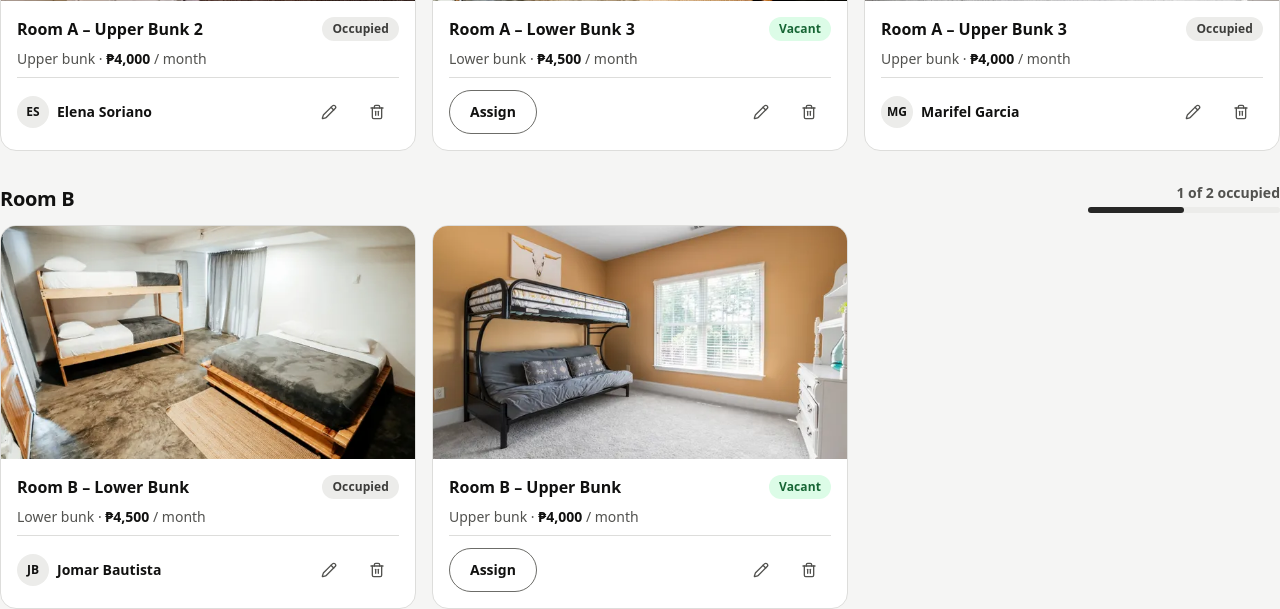
Scenario: AdminBedsPage — Assign picker (renters without a bed) › Esc closes the list first, then the modal
(page scrolled)
Click the button with aria-label "Assign a renter to Room B – Upper Bunk": (493, 570) [449,548,537,592]
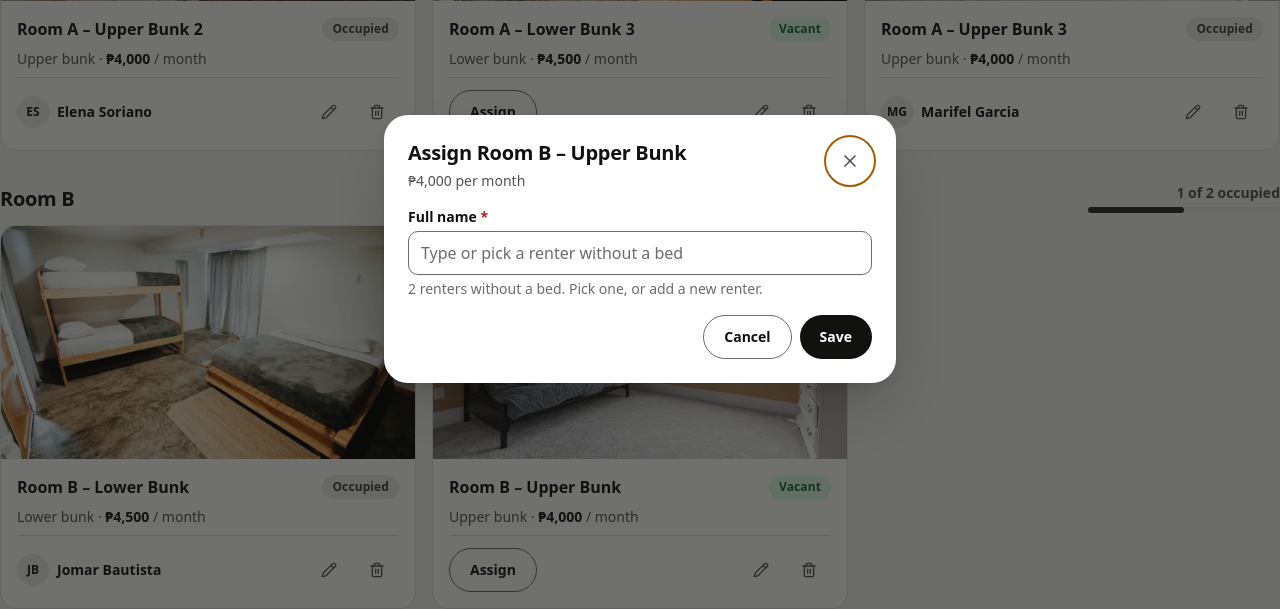
Click the dropdown labelled "Full name *": (640, 253) [408,231,872,275]
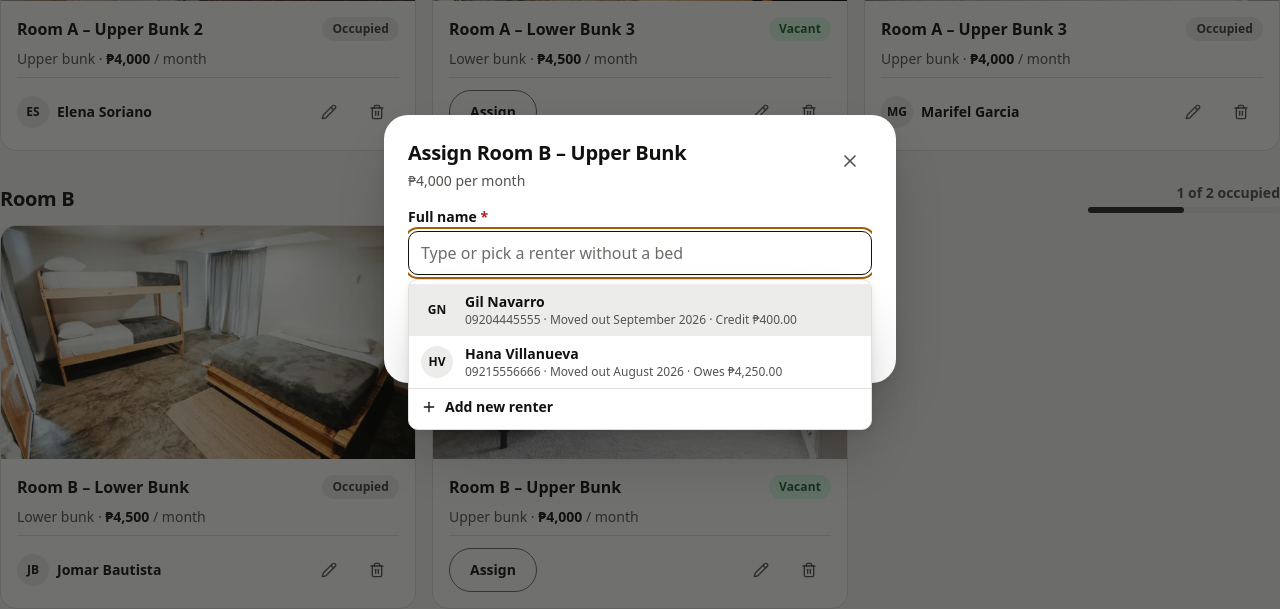
Press Escape
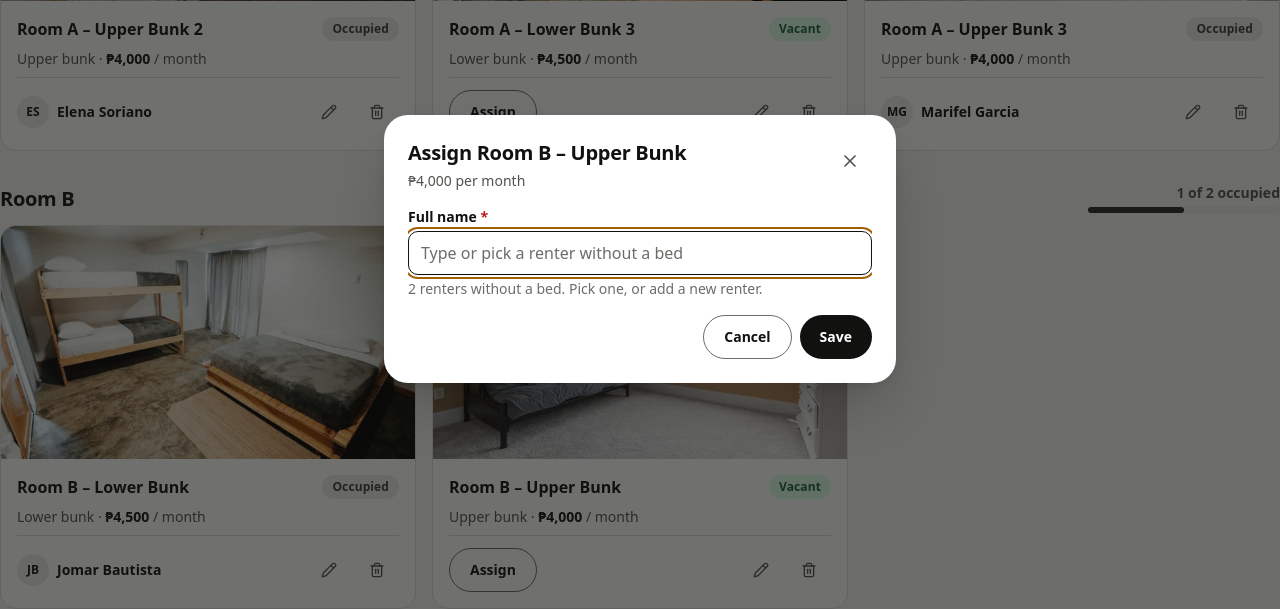
Expected: the dialog "Assign Room B – Upper Bunk" is shown, [384,115,896,383]
Press Escape
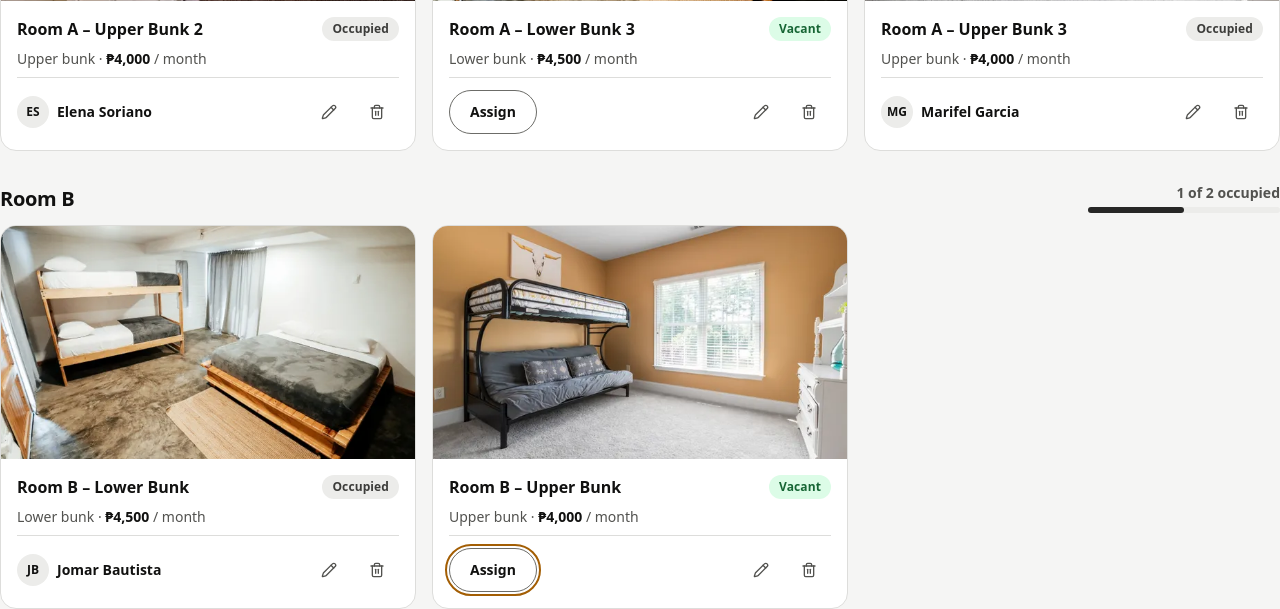
Expected: the dialog is gone
